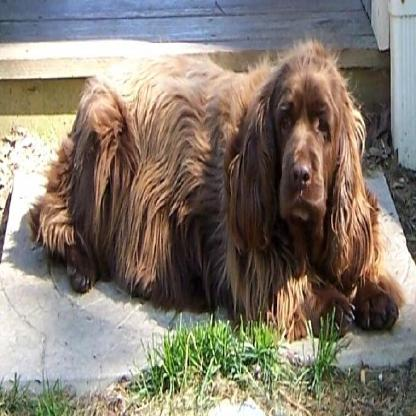Sussex_spaniel: (29, 34, 405, 342)
